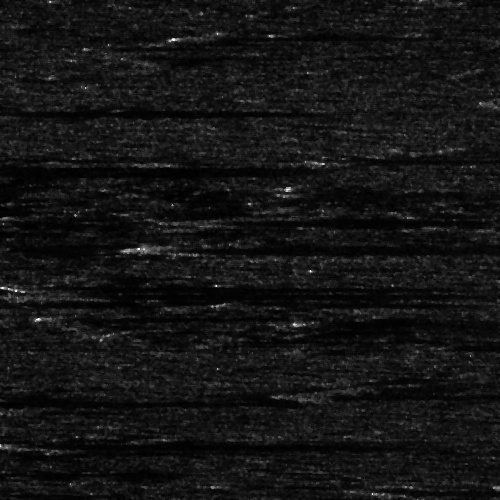object: (201, 213, 358, 226), (77, 241, 212, 252), (0, 288, 77, 299), (270, 392, 343, 401), (308, 156, 381, 165), (341, 486, 414, 495), (167, 31, 230, 40), (0, 439, 51, 450), (4, 311, 57, 320), (0, 280, 40, 287), (0, 407, 56, 412), (69, 43, 122, 48), (432, 0, 495, 4), (0, 108, 8, 115)
shadow: (0, 290, 368, 315), (14, 439, 416, 450), (145, 241, 486, 252), (24, 288, 354, 299), (0, 164, 277, 175), (280, 213, 500, 226), (199, 31, 477, 40), (4, 280, 334, 287), (0, 108, 305, 115), (30, 311, 227, 320), (307, 392, 452, 401), (345, 156, 488, 165), (378, 486, 500, 495), (96, 43, 231, 48), (25, 407, 91, 412), (463, 0, 500, 4)
